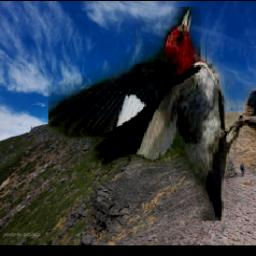Woodpecker: (48, 7, 256, 221)
